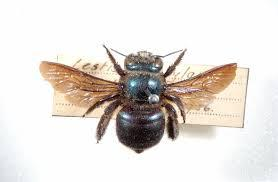Xylocopa: (44, 40, 236, 157)
